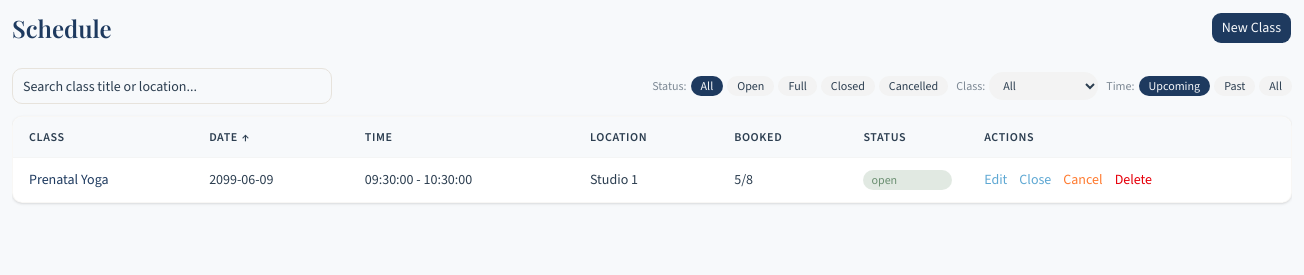
/admin/schedule › says on the page why a class could not be cancelled, without an alert
The width and height of the screenshot is (1304, 275).
expect the cell "Prenatal Yoga" is shown: met, box [13, 158, 193, 202]
Click the button "Cancel". click: click(1083, 180)
box: [1063, 170, 1103, 190]
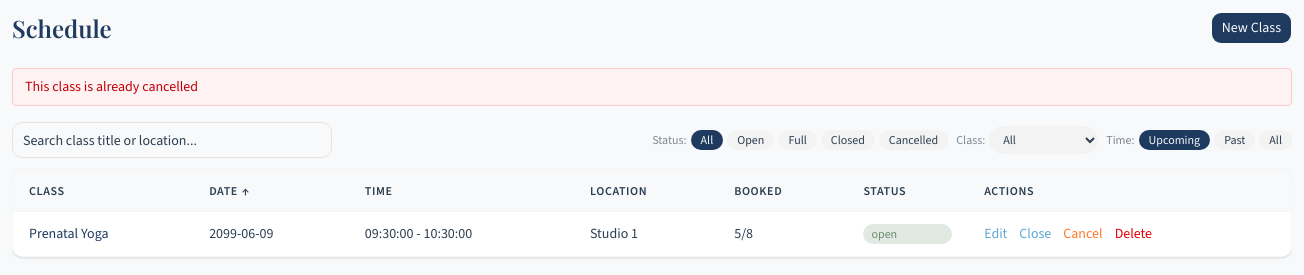
expect the message reads "This class is already cancelled": met, box [25, 77, 198, 96]
